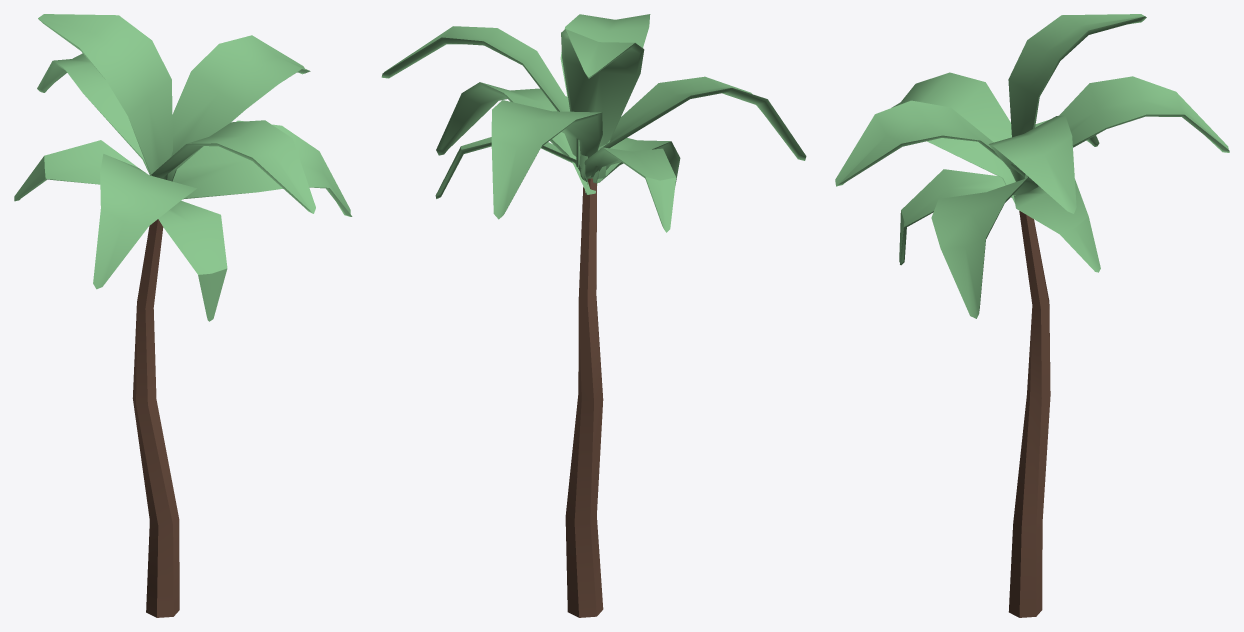
File: PalmTree02.glb
3 renders of one model, left to right at view 1: azimuth 30°, elevation 25°; view 2: azimuth 150°, elevation 25°; view 3: azimuth 270°, elevation 25°, orthographic. The views are drawn at different scales.
Parts seen in each view (by area): view 1: PalmTree03; view 2: PalmTree03; view 3: PalmTree03.
Part boxes in pixels (left/top/right/bottom): PalmTree03: left=14, top=14, right=352, bottom=617; PalmTree03: left=381, top=14, right=806, bottom=617; PalmTree03: left=835, top=14, right=1229, bottom=617.
Bounding box in the file's own units: 3.88 × 6.93 × 4.31.
